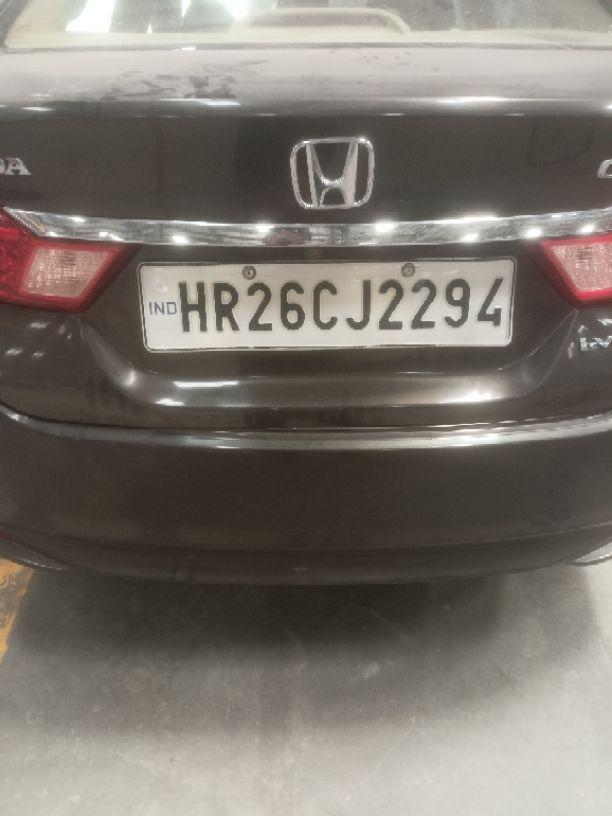license_plate: (136, 254, 517, 352)
